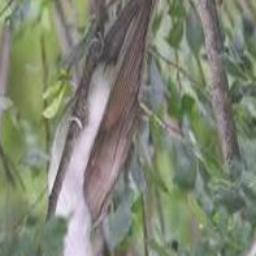Cuckoo: (49, 0, 173, 256)
